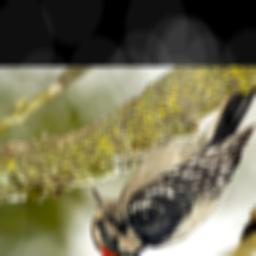Woodpecker: (90, 80, 256, 256)
